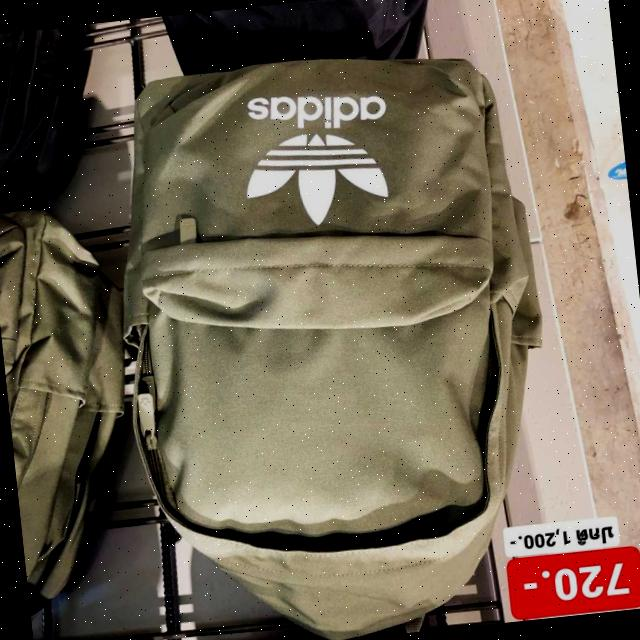Handbag: (85, 27, 582, 640)
